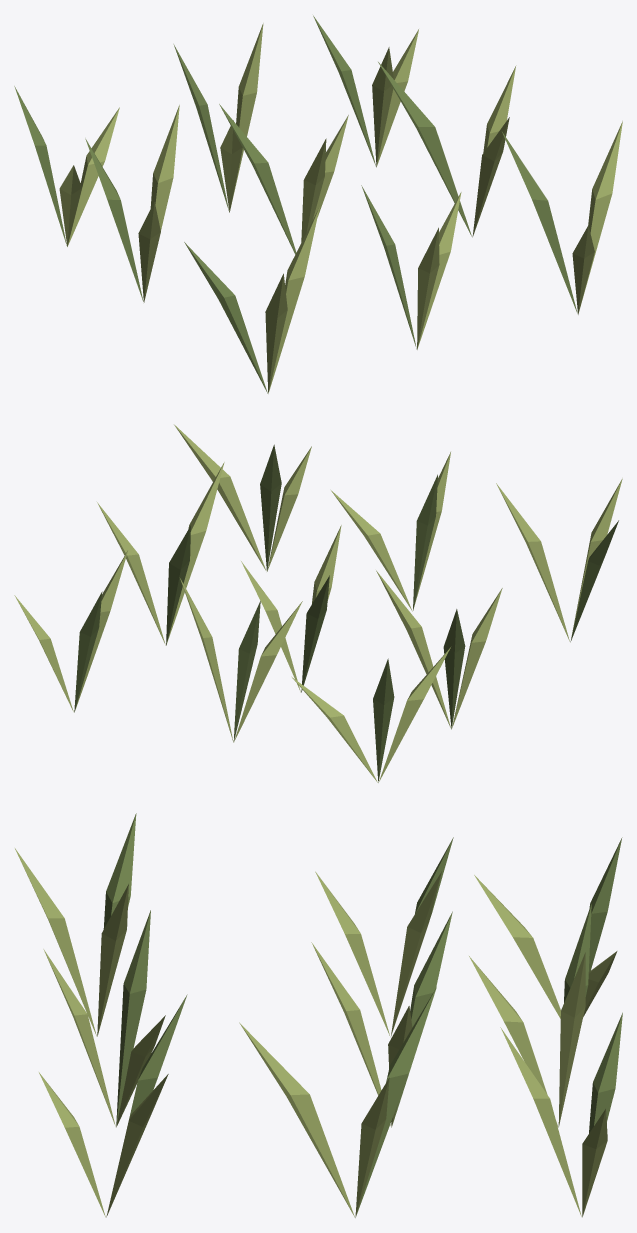
Rendered from green_shoots.glb.
3 renders of one model, top to bottom at view 1: azimuth 30°, elevation 25°; view 2: azimuth 150°, elevation 25°; view 3: azimuth 270°, elevation 25°, orthographic. The views are drawn at different scales.
Visible parts, largest first — view 1: Green shoots; view 2: Green shoots; view 3: Green shoots.
Boxes of the visible parts, <box> form: Green shoots: <box>14,15,622,393</box>; Green shoots: <box>14,424,622,782</box>; Green shoots: <box>15,813,622,1217</box>.
Bounding box in the file's own units: 0.963 × 0.3488 × 0.9497.
